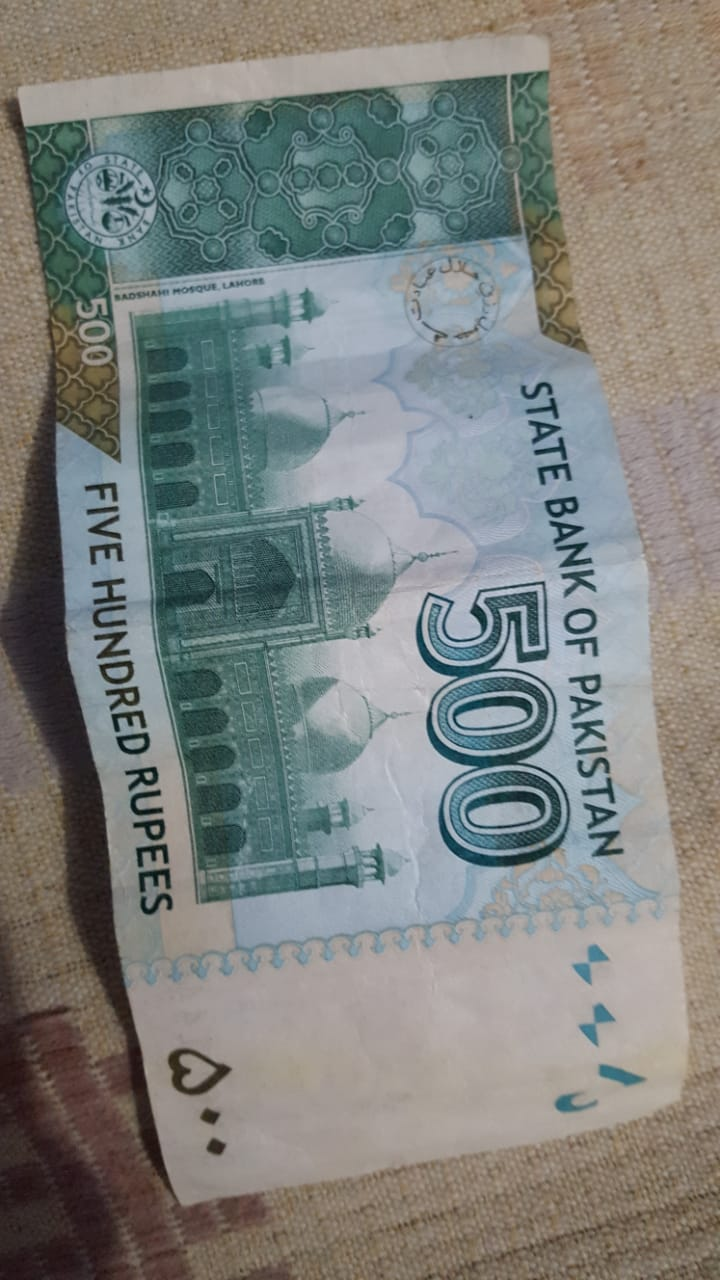500 rupee: (17, 27, 700, 1250)
